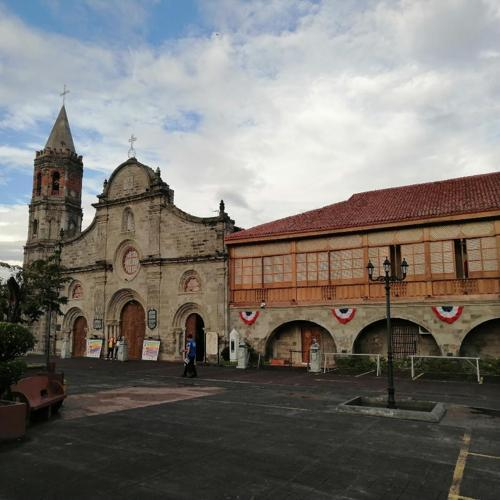Barasoain Church: (15, 82, 229, 362)
